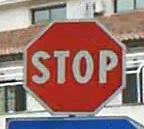stop: (19, 18, 128, 115)
